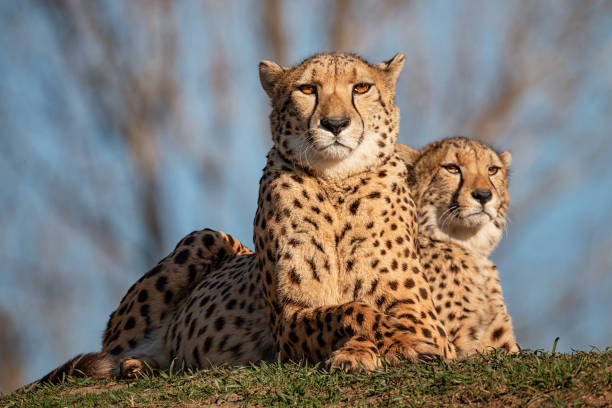cheetah: (253, 44, 408, 187), (421, 134, 519, 238)
